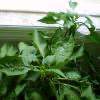Bell_pepper leaf: (1, 55, 32, 75), (54, 33, 74, 63), (31, 25, 47, 57), (50, 25, 65, 54), (61, 83, 80, 99), (80, 84, 99, 99), (64, 67, 81, 80), (22, 45, 37, 59), (72, 42, 84, 59), (1, 43, 17, 55), (36, 16, 56, 25), (83, 34, 99, 44), (62, 15, 75, 27), (89, 28, 99, 41), (18, 41, 30, 51), (68, 0, 79, 10)
